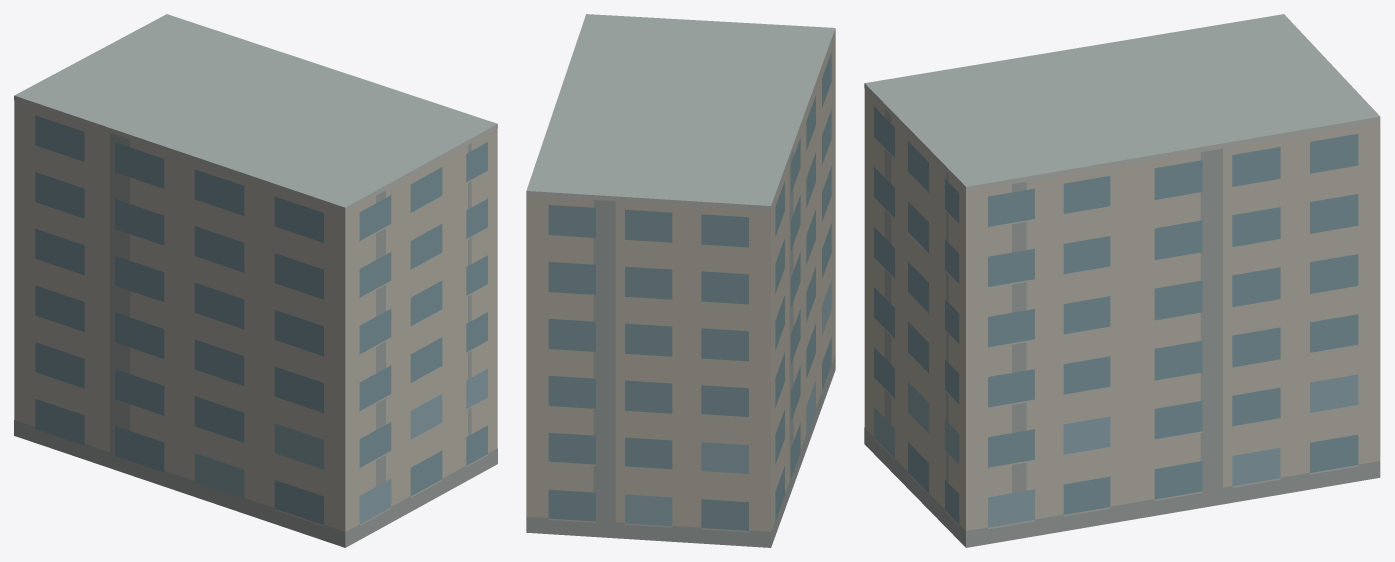
File: survey-upis-32859637.glb
The picture shows the model from 3 angles, left to right: view 1: azimuth 30°, elevation 25°; view 2: azimuth 150°, elevation 25°; view 3: azimuth 270°, elevation 25°; orthographic projection. The views are drawn at different scales.
Visible parts, largest first — view 1: survey-upis-32859637.tmp; view 2: survey-upis-32859637.tmp; view 3: survey-upis-32859637.tmp.
Boxes of the visible parts, <box> form: survey-upis-32859637.tmp: <box>14,14,497,547</box>; survey-upis-32859637.tmp: <box>526,14,835,547</box>; survey-upis-32859637.tmp: <box>864,14,1380,547</box>.
Size of the model in its own units: 17.67 by 17.2 by 22.29.
